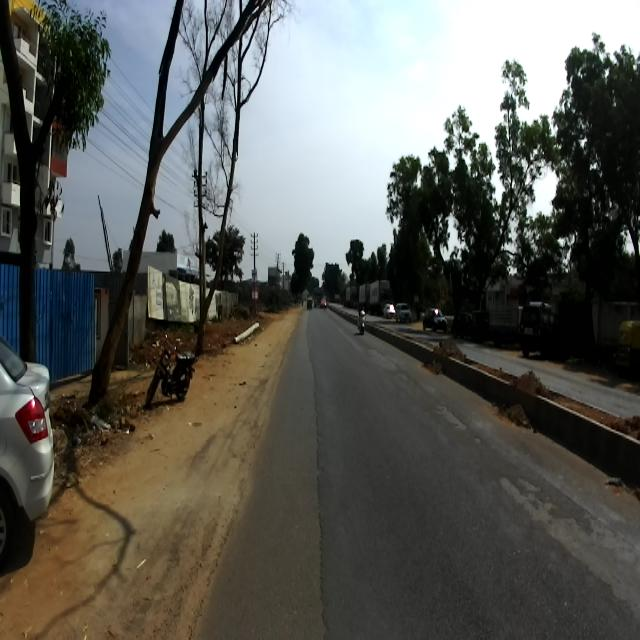car ahead at: (0, 338, 56, 559)
motorcycle ahead at: (140, 326, 197, 416)
